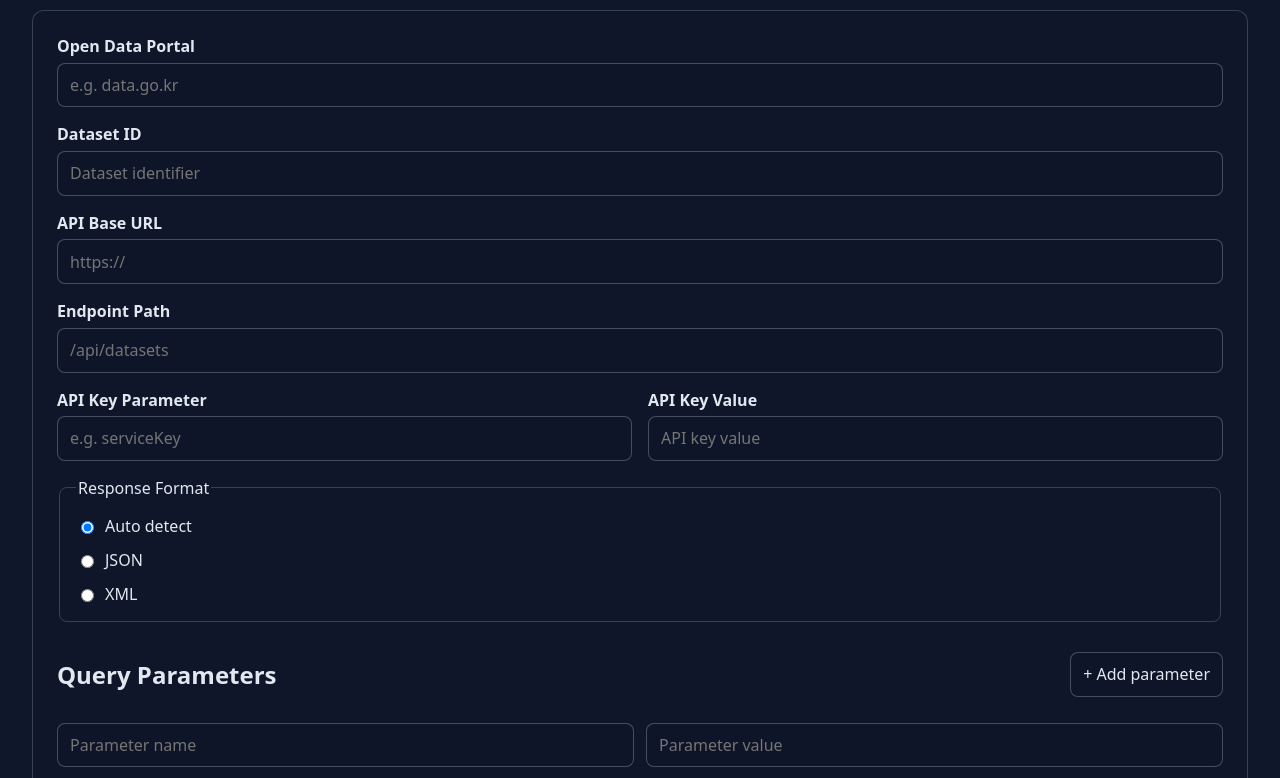
ConnectionWizard › submits the form and renders the preview when the API returns success
Type "data.go.kr" into the field labelled "Open Data Portal". click: [640, 85]
box: [57,63,1223,107]
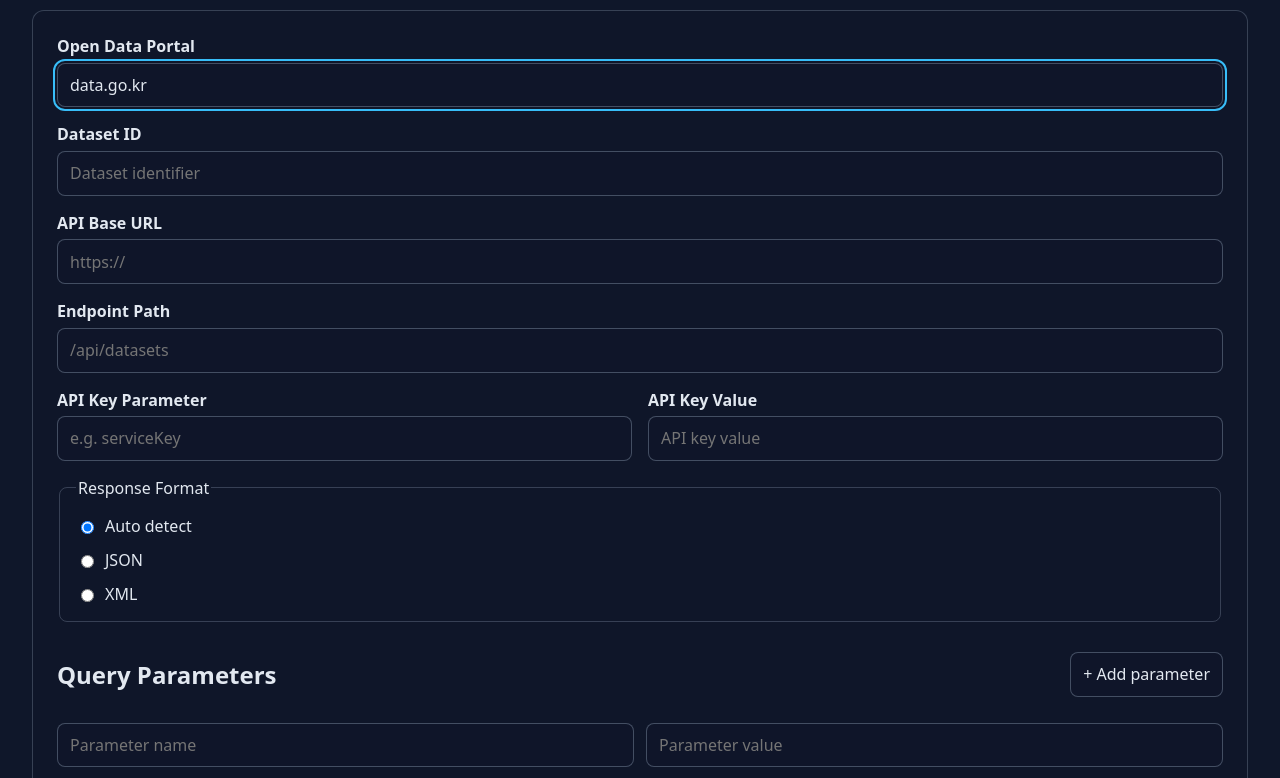
Type "users" into the field labelled "Dataset ID". click: [640, 173]
box: [57,151,1223,196]
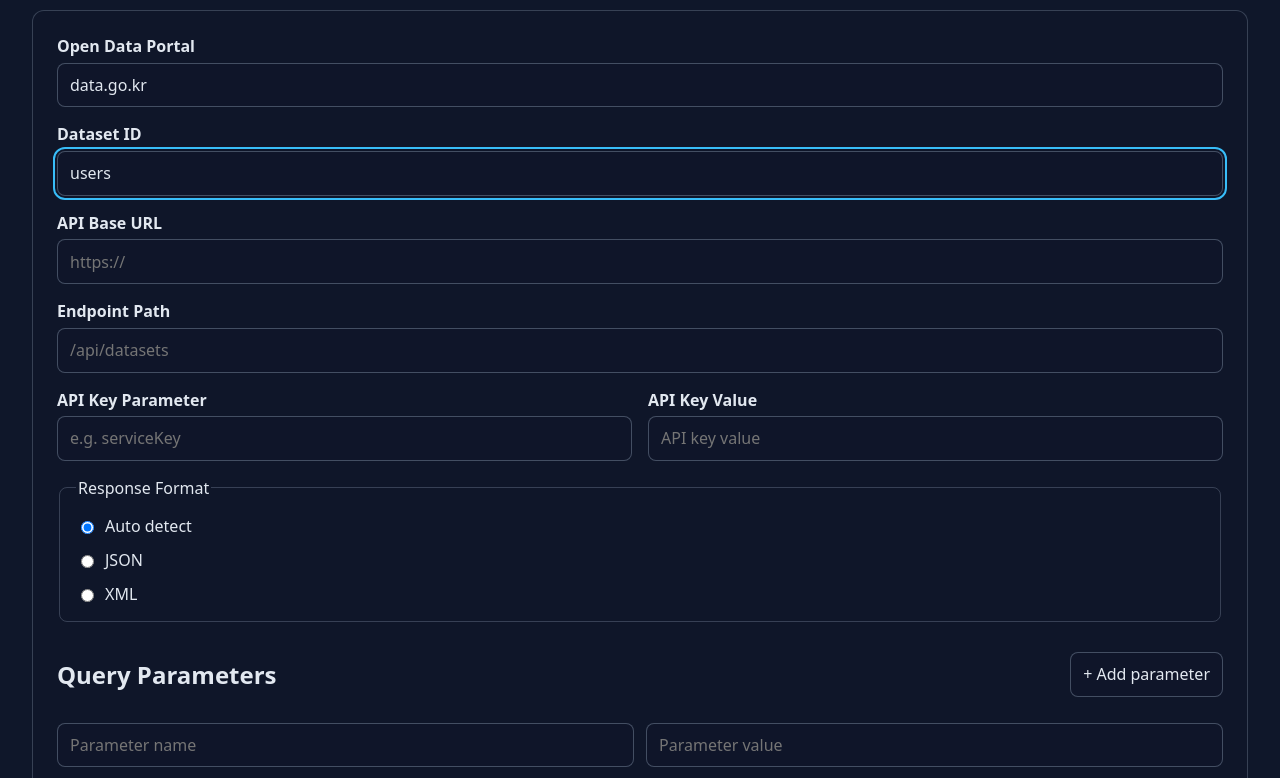
Type "https://data.example.com" into the field labelled "API Base URL". click: [640, 262]
box: [57,239,1223,284]
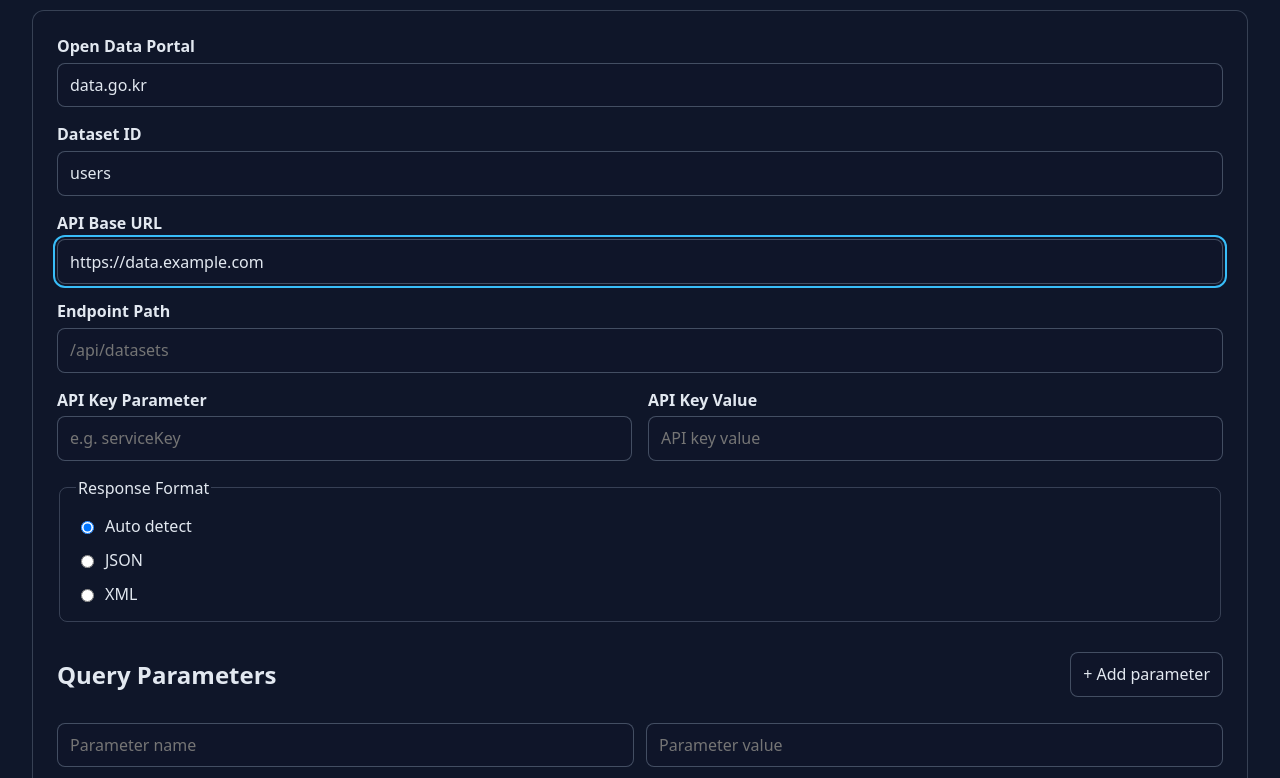
Type "/datasets/users" into the field labelled "Endpoint Path". click: [640, 350]
box: [57,328,1223,372]
(page scrolled)
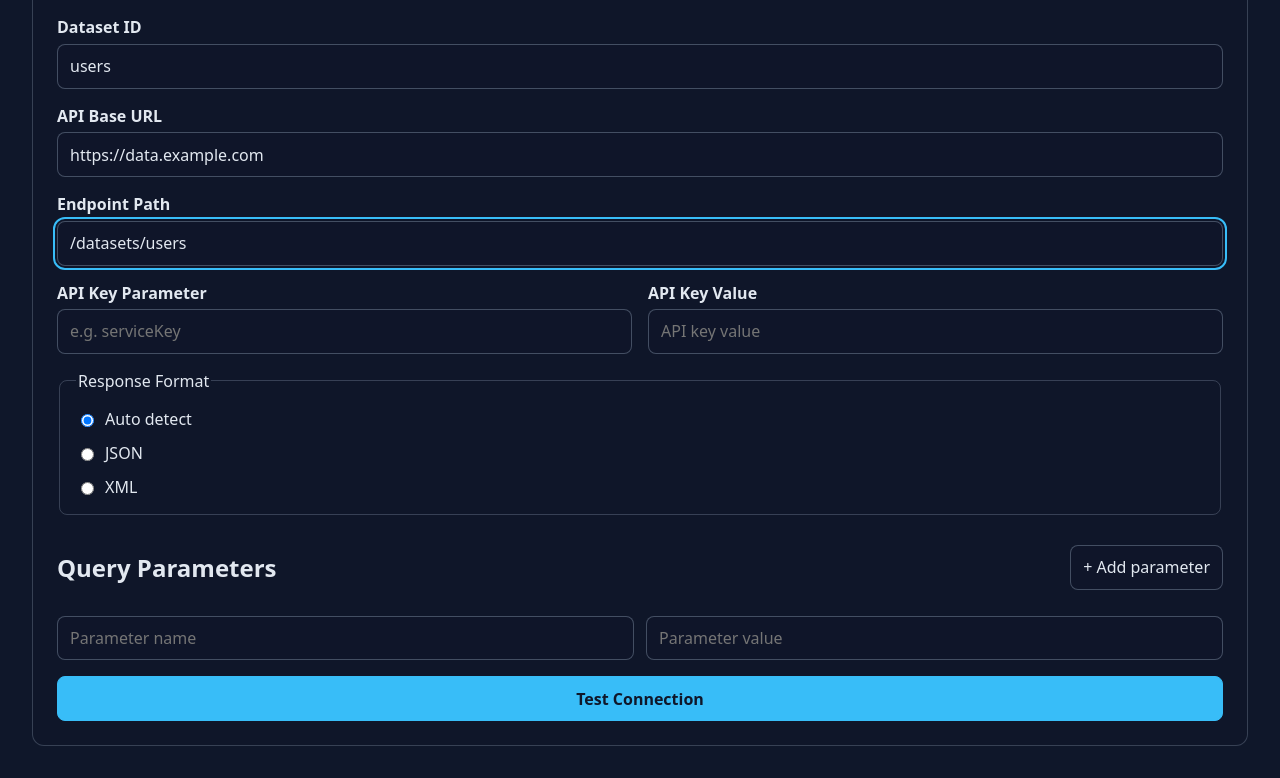
Click the button "Test Connection". click: [640, 699]
box: [57,676,1223,721]
(page scrolled)
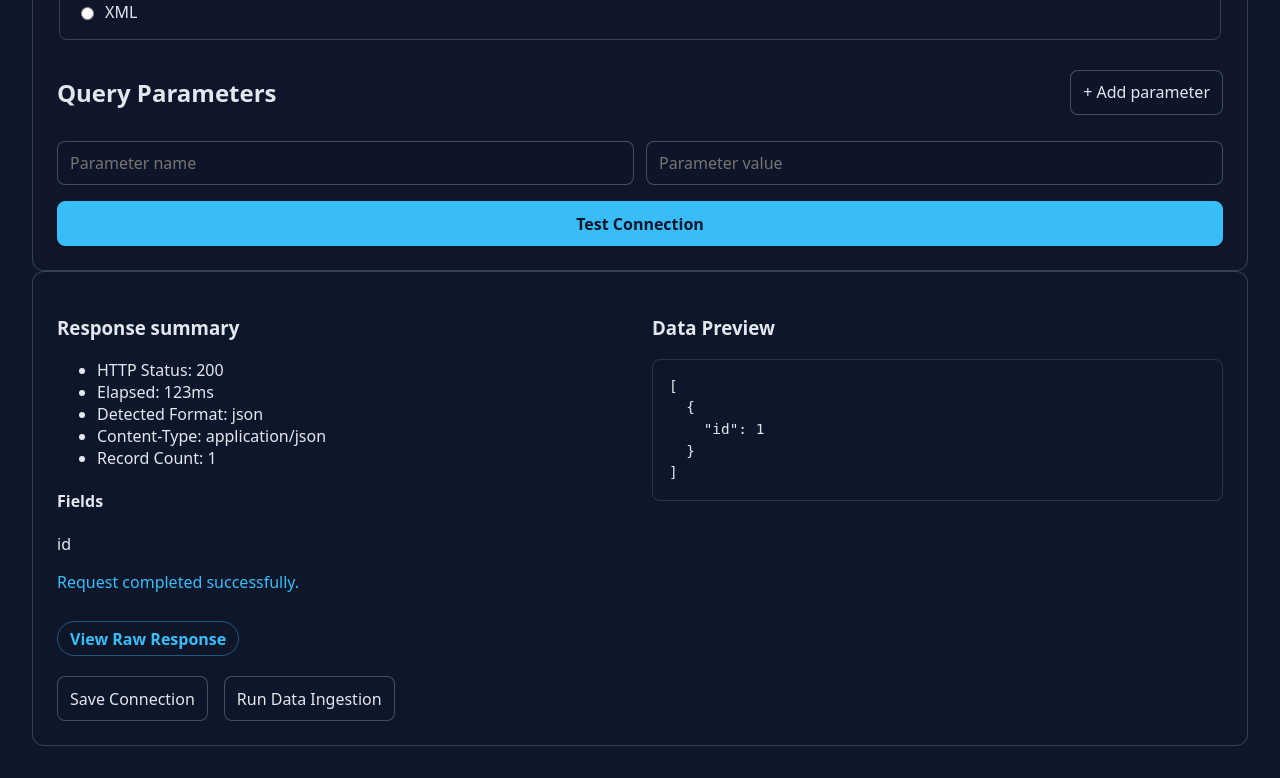
Check: the text "[ { \"id\": 1 } ]" is shown, box [652,359,1223,501]
